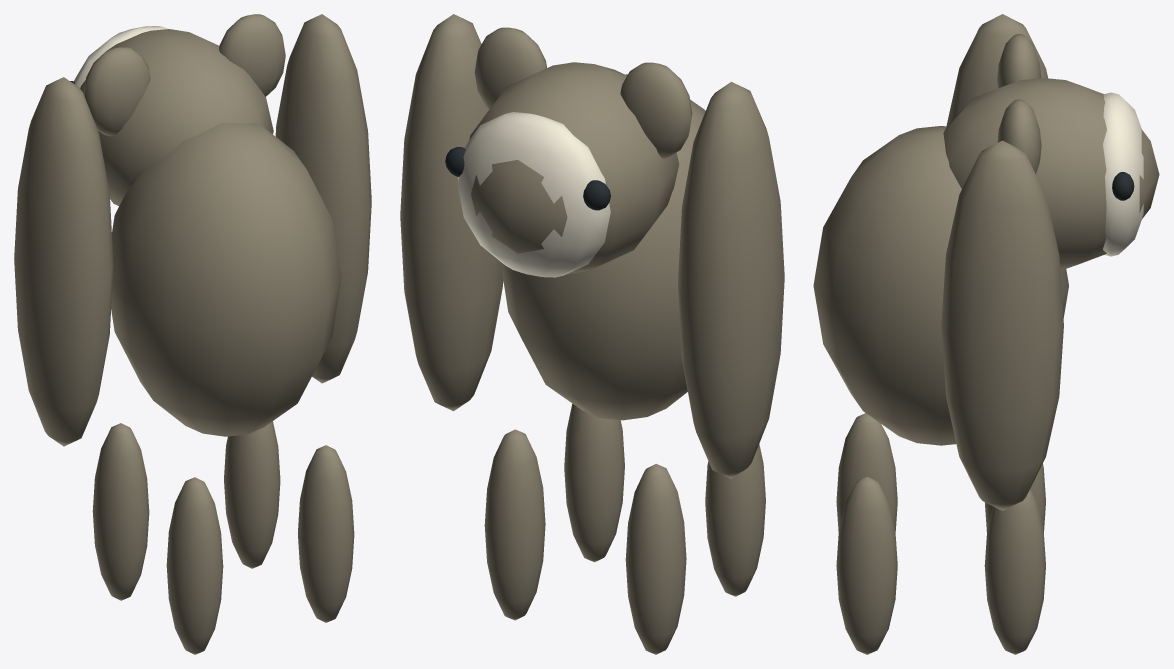
Rendered from animal_sloth.glb.
3 views of the same model, side by side, from view 1: azimuth 30°, elevation 25°; view 2: azimuth 150°, elevation 25°; view 3: azimuth 270°, elevation 25° (orthographic). The views are drawn at different scales.
Visible parts, largest first — view 1: Body, LegBL, LegBR, LegFL, LegFR; view 2: Body, LegFL, LegFR, LegBR, LegBL; view 3: Body, LegBR, LegFR, LegBL, LegFL.
Part boxes in pixels (bbox=[...]): Body: bbox=[14, 14, 371, 446]; LegBL: bbox=[166, 477, 223, 654]; LegBR: bbox=[298, 445, 354, 622]; LegFL: bbox=[92, 423, 149, 600]; LegFR: bbox=[224, 421, 280, 568]; Body: bbox=[400, 14, 784, 478]; LegFL: bbox=[625, 464, 686, 654]; LegFR: bbox=[484, 429, 545, 620]; LegBR: bbox=[564, 403, 624, 562]; LegBL: bbox=[705, 444, 765, 596]; Body: bbox=[813, 14, 1159, 510]; LegBR: bbox=[836, 476, 897, 654]; LegFR: bbox=[984, 489, 1045, 654]; LegBL: bbox=[836, 413, 897, 531]; LegFL: bbox=[984, 463, 1045, 531].
Size of the model in its own units: 0.765 by 1.19 by 0.6768.
